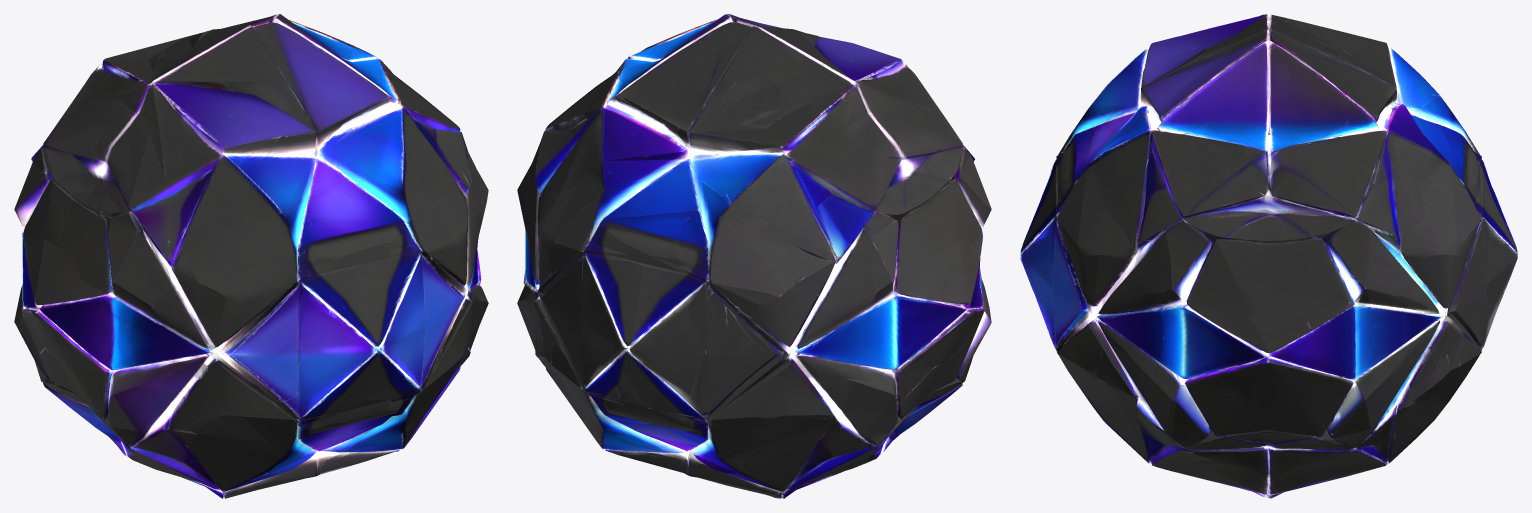
The model's file is hero-sculpture-source.glb.
3 views of the same model, side by side, from view 1: azimuth 30°, elevation 25°; view 2: azimuth 150°, elevation 25°; view 3: azimuth 270°, elevation 25° (orthographic). The views are drawn at different scales.
Size of the model in its own units: 1.86 by 1.9 by 1.9.
1 material, 1 textured.
